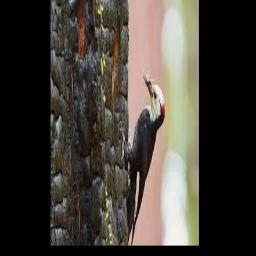Woodpecker: (120, 70, 164, 246)
